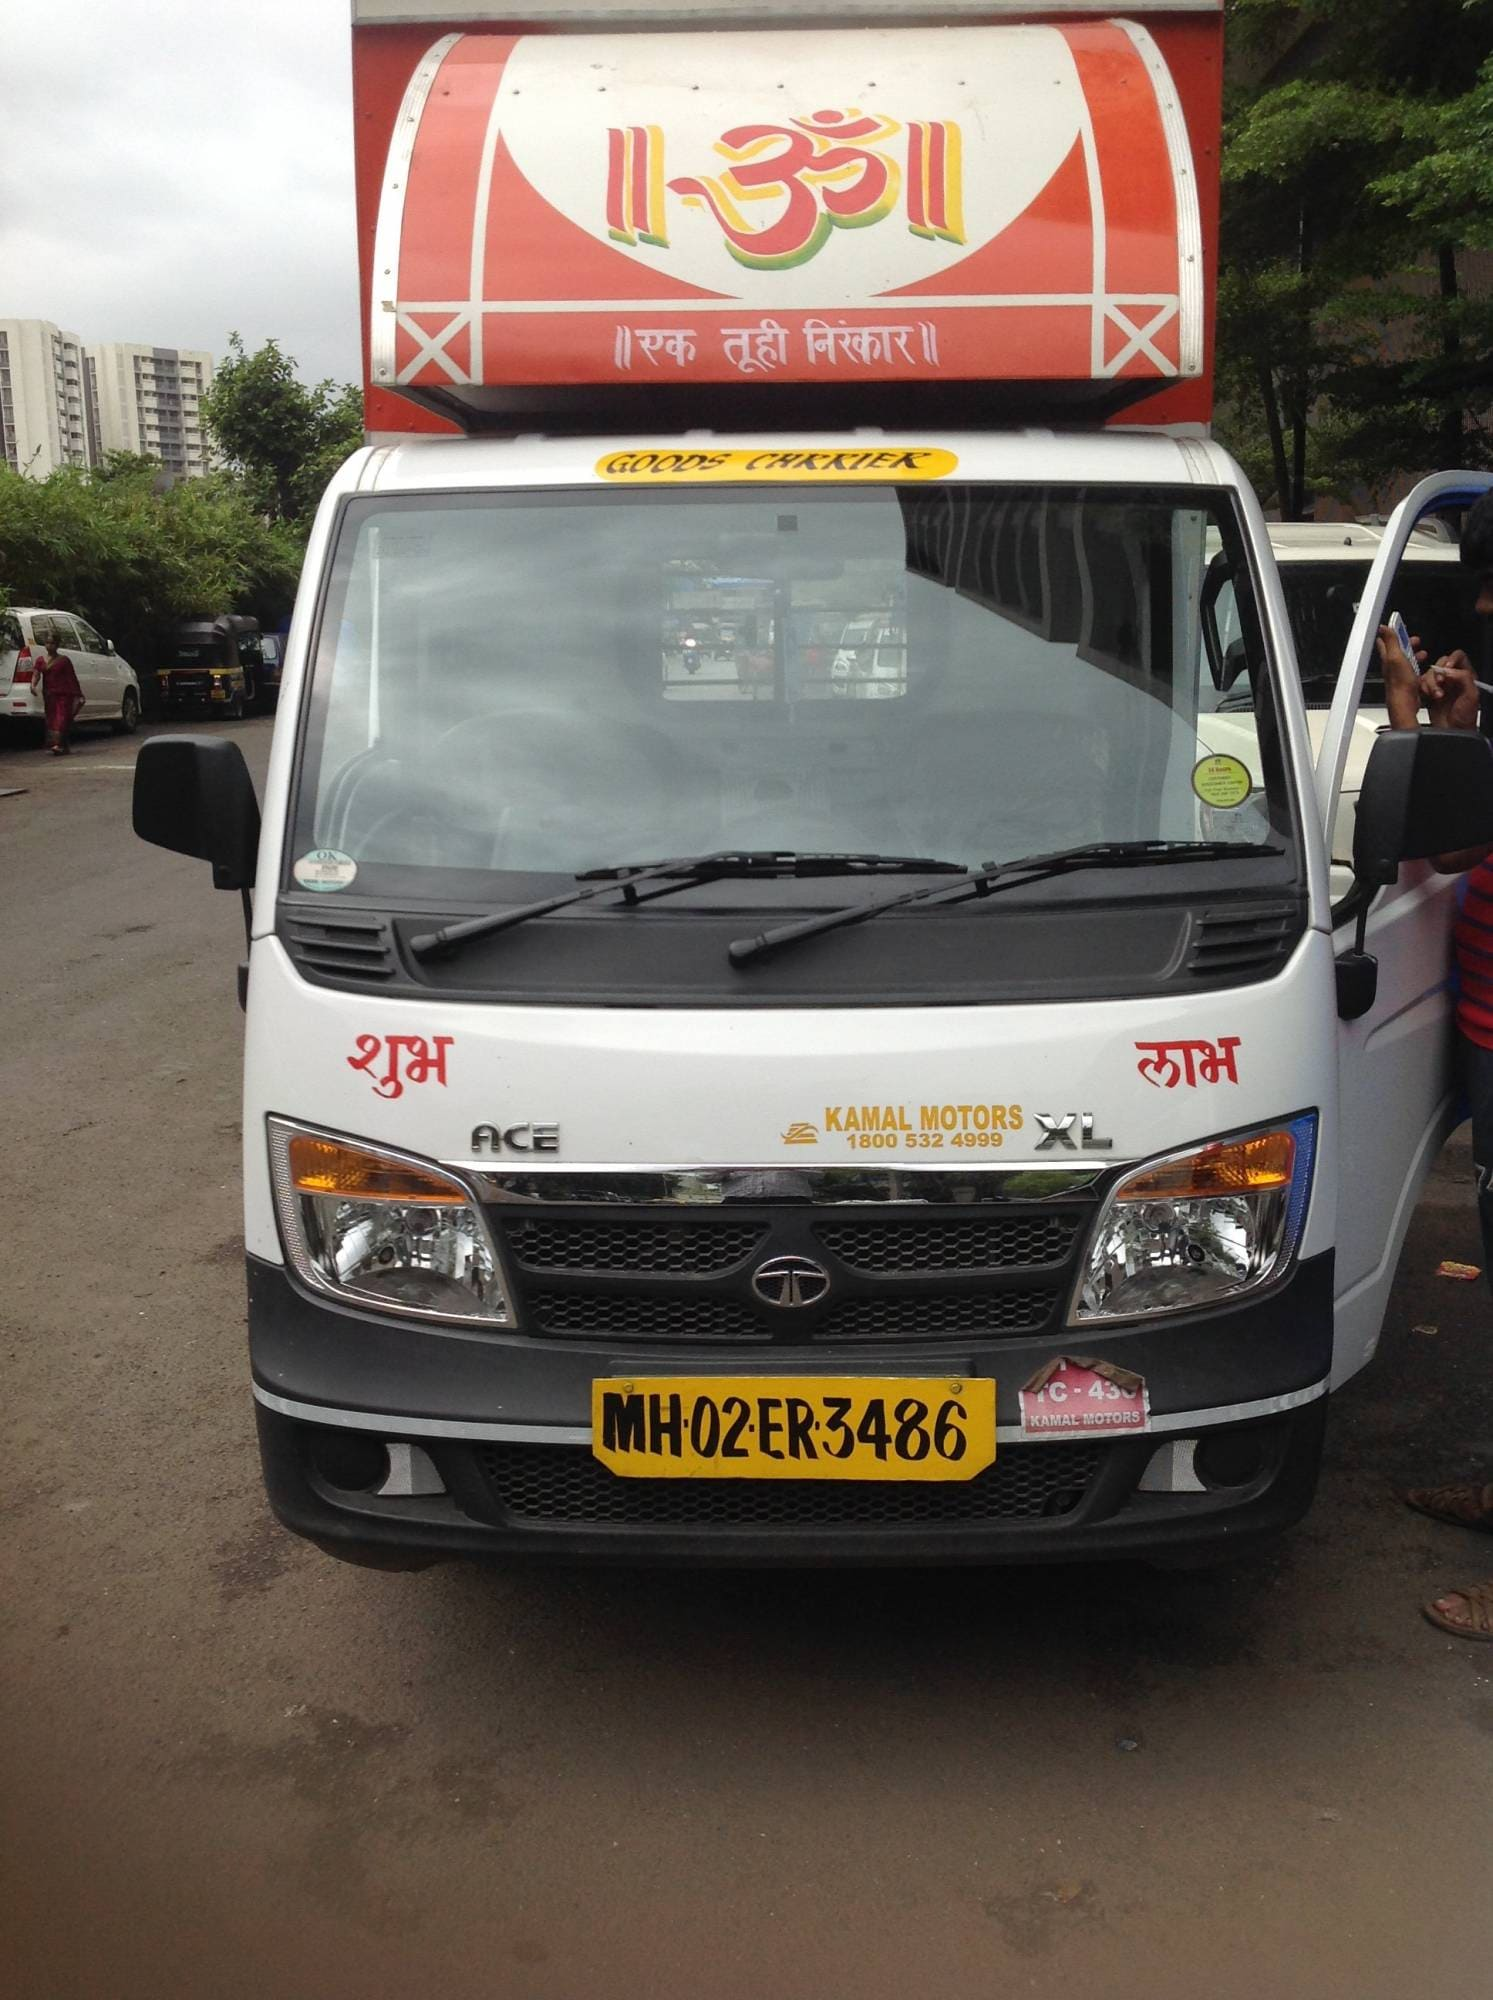numberplate: (582, 1369, 1000, 1487)
